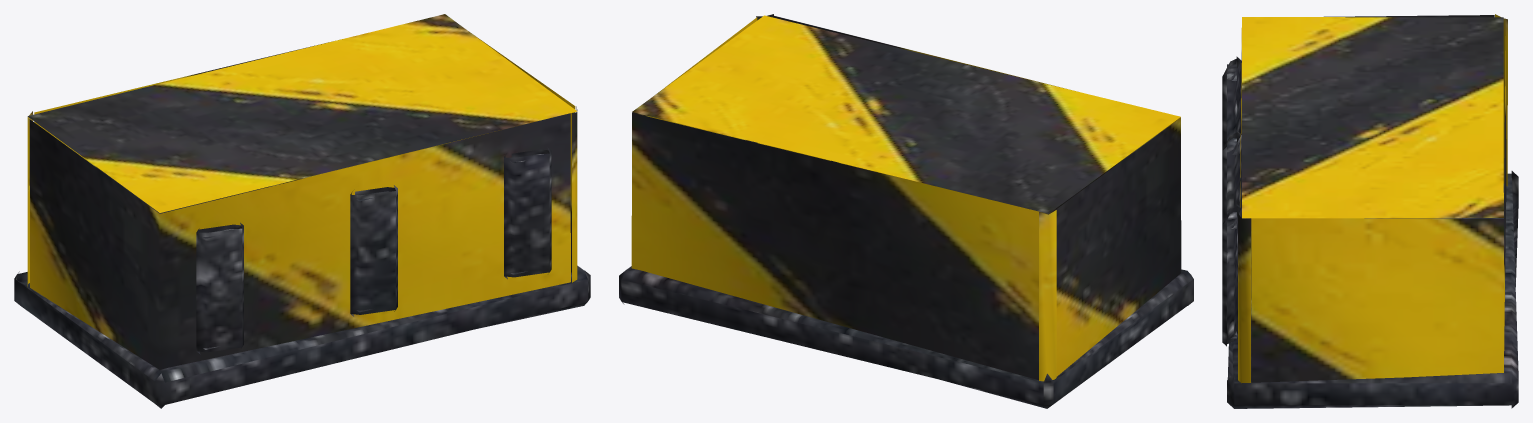
File: barrera_lod.glb
3 renders of one model, left to right at view 1: azimuth 30°, elevation 25°; view 2: azimuth 150°, elevation 25°; view 3: azimuth 270°, elevation 25°, orthographic.
Visible parts, largest first — view 1: barrera; view 2: barrera; view 3: barrera.
Part boxes in pixels (x1,y1,x2,y2): barrera: (14,14,590,408); barrera: (619,14,1193,408); barrera: (1222,14,1518,408).
Size of the model in its own units: 1 by 0.4251 by 0.598.
Materials: 2 (2 with a texture image).
